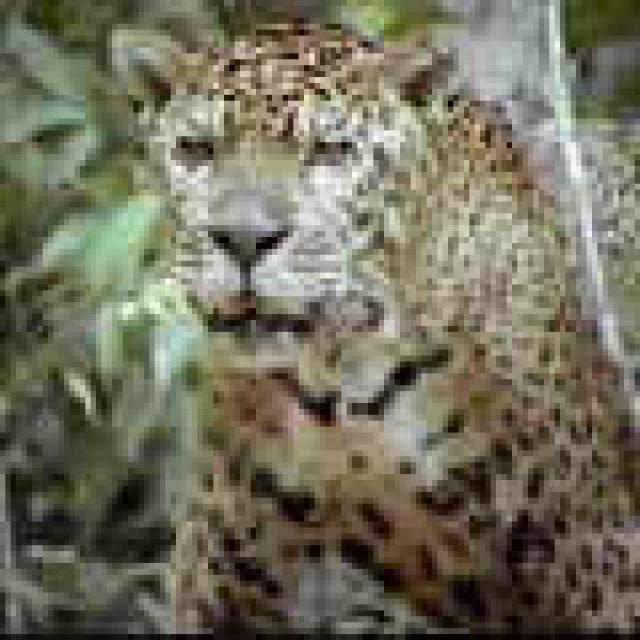Leopard: (86, 6, 630, 628)
